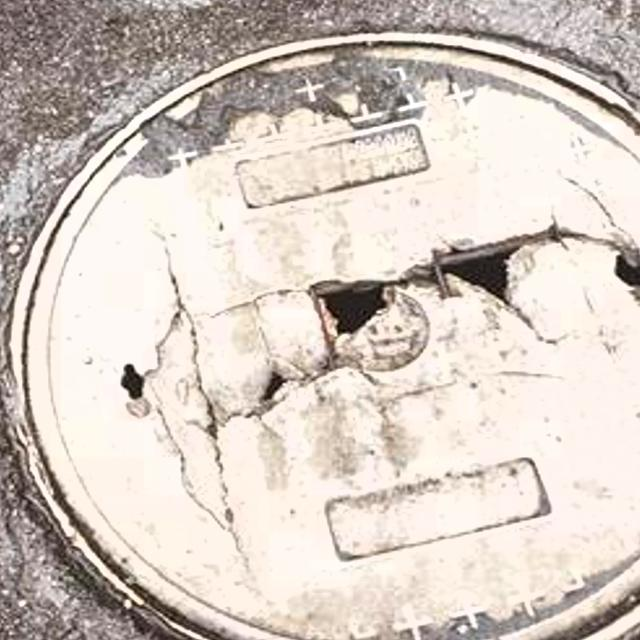broke: (0, 19, 640, 640)
